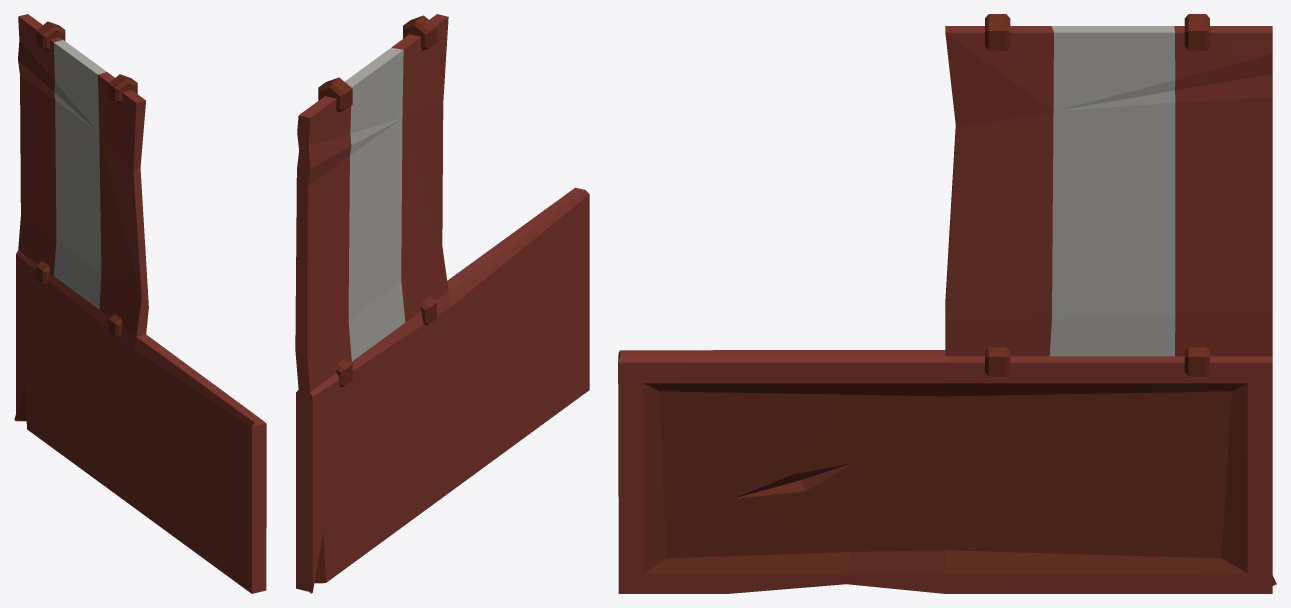
File: SM_Prop_Stall_Side_03.glb
The picture shows the model from 3 angles, left to right: view 1: azimuth 30°, elevation 25°; view 2: azimuth 150°, elevation 25°; view 3: azimuth 270°, elevation 25°; orthographic projection. The views are drawn at different scales.
Parts seen in each view (by area): view 1: SM_Prop_Stall_Side_03; view 2: SM_Prop_Stall_Side_03; view 3: SM_Prop_Stall_Side_03.
Boxes of the visible parts, left/top/right/bottom form: SM_Prop_Stall_Side_03: left=14, top=14, right=266, bottom=593; SM_Prop_Stall_Side_03: left=295, top=14, right=589, bottom=593; SM_Prop_Stall_Side_03: left=618, top=14, right=1276, bottom=593.
Size of the model in its own units: 12.98 by 227 by 235.
Materials: 1 (1 with a texture image).
